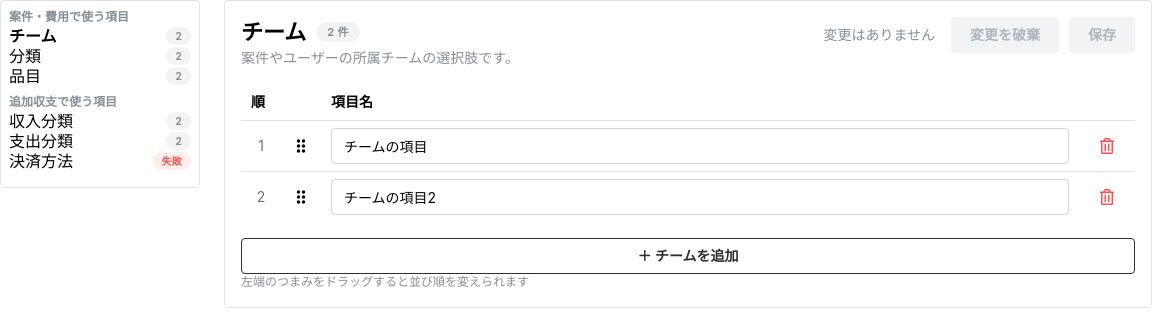
Test case: OptionsManager › 取得に失敗したカテゴリは、一覧に失敗マークを出し、パネルにエラーを表示する
The width and height of the screenshot is (1152, 325).
Click the button "決済方法 失敗": (100, 161) [9, 151, 191, 171]
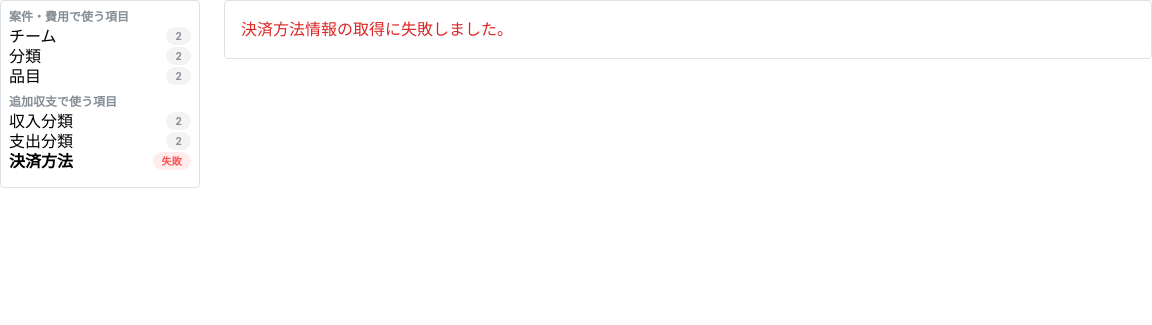
Now the text "決済方法情報の取得に失敗しました。" is shown, box [224, 0, 1151, 59]
